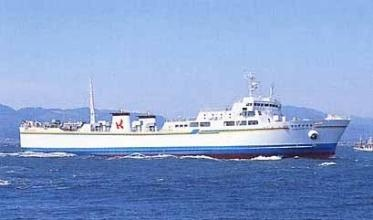Cargoship: (8, 62, 349, 155)
